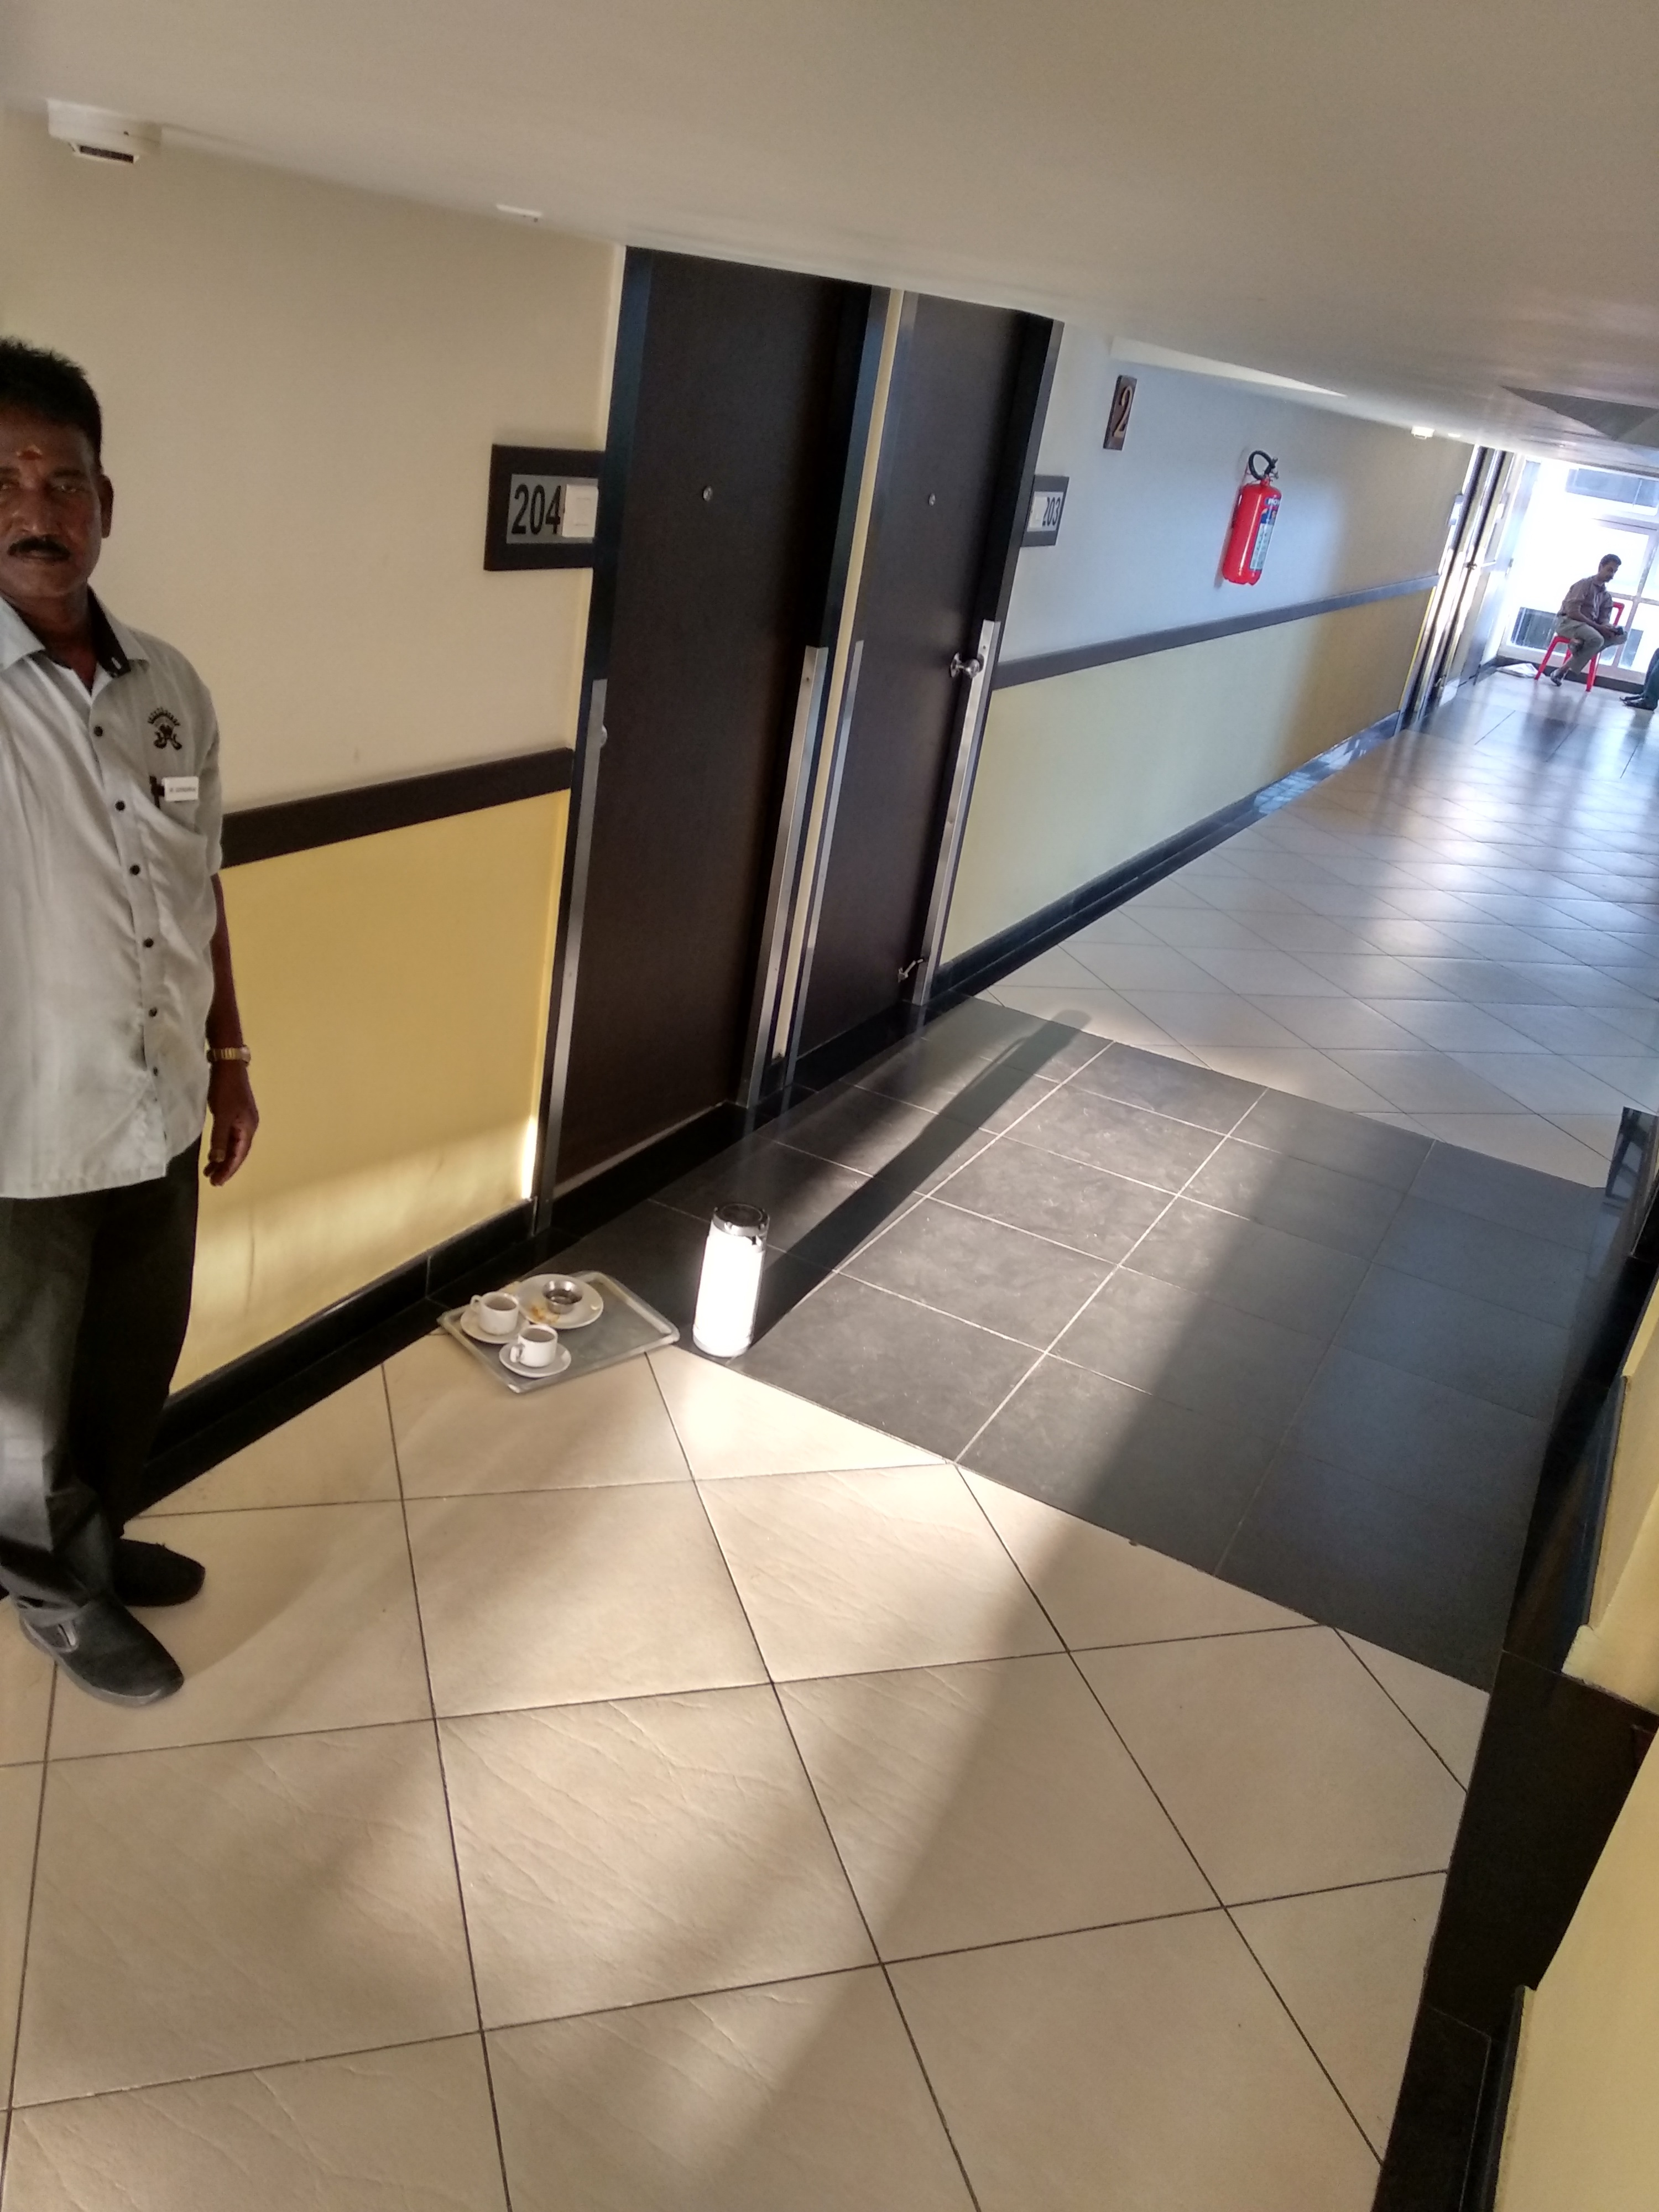CUP: (467, 1294, 523, 1336), (512, 1325, 558, 1372), (544, 1277, 582, 1313)
JUG: (704, 1202, 758, 1362)
